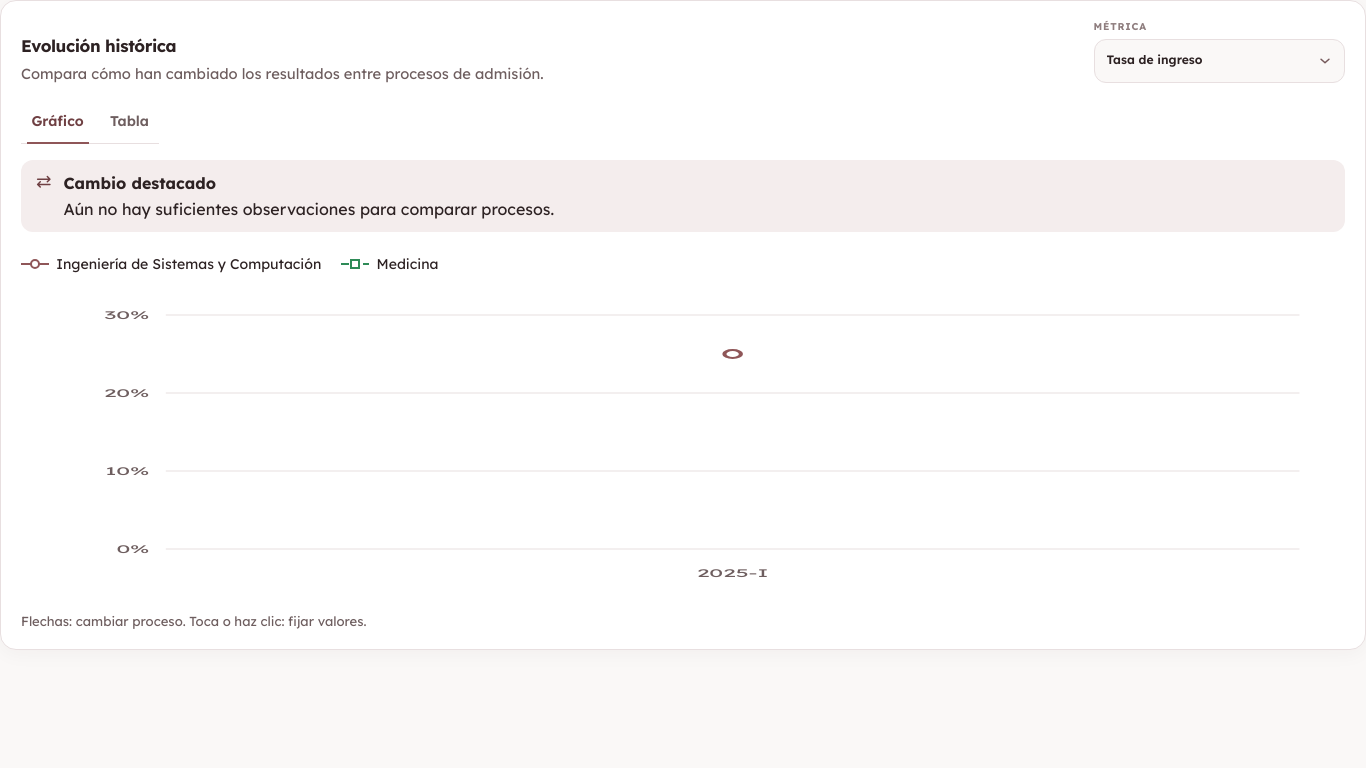
CareerComparisonHistory › labels each career value so the mobile process cards identify their metrics
The width and height of the screenshot is (1366, 768).
Click the button "Tabla" at (130, 120), box [100,98,159,142]
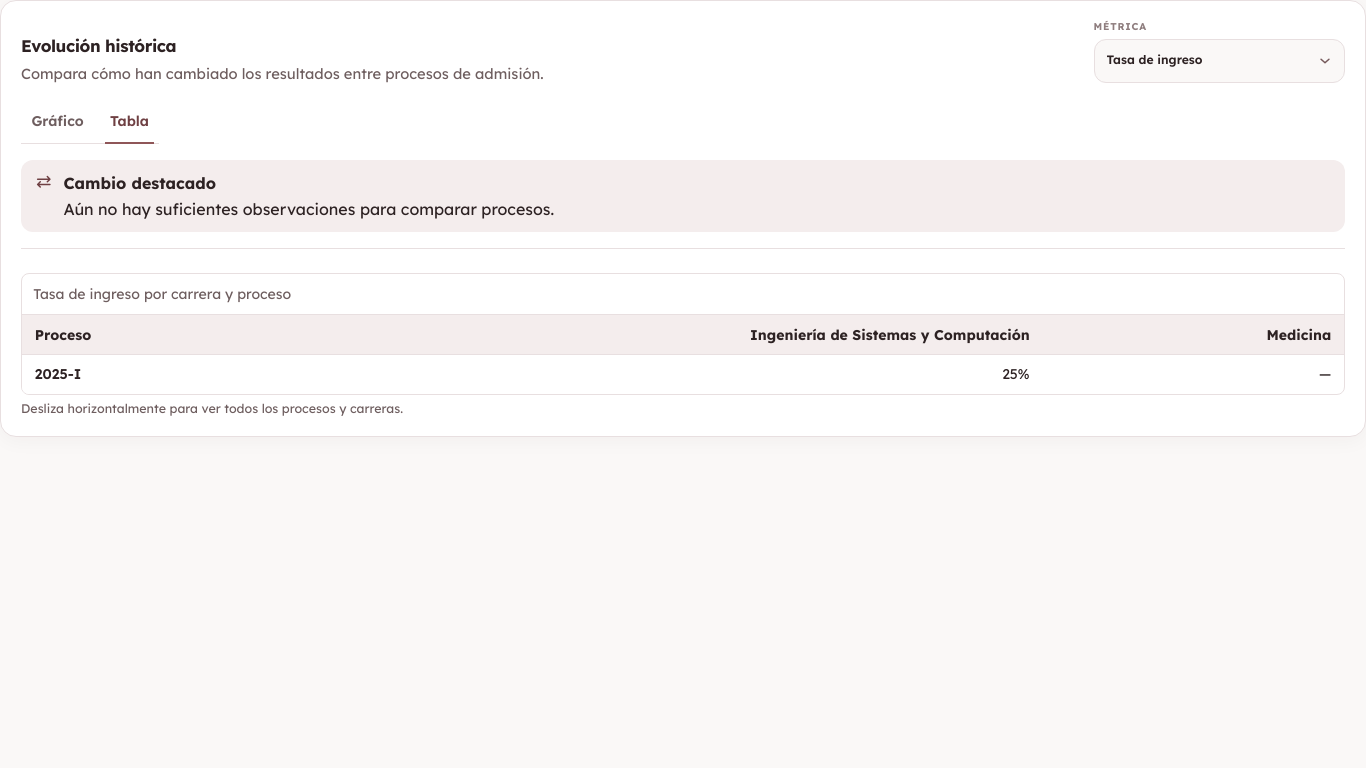
Expected: the column heading "2025-I" is shown, [22,354,324,394]
Now the cell "25%" is shown, box [324,354,1042,394]
Now the cell "—" is shown, box [1042,354,1344,394]
